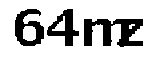4: (48, 7, 80, 50)
6: (13, 7, 45, 51)
m: (81, 15, 130, 49)
z: (119, 19, 151, 51)
